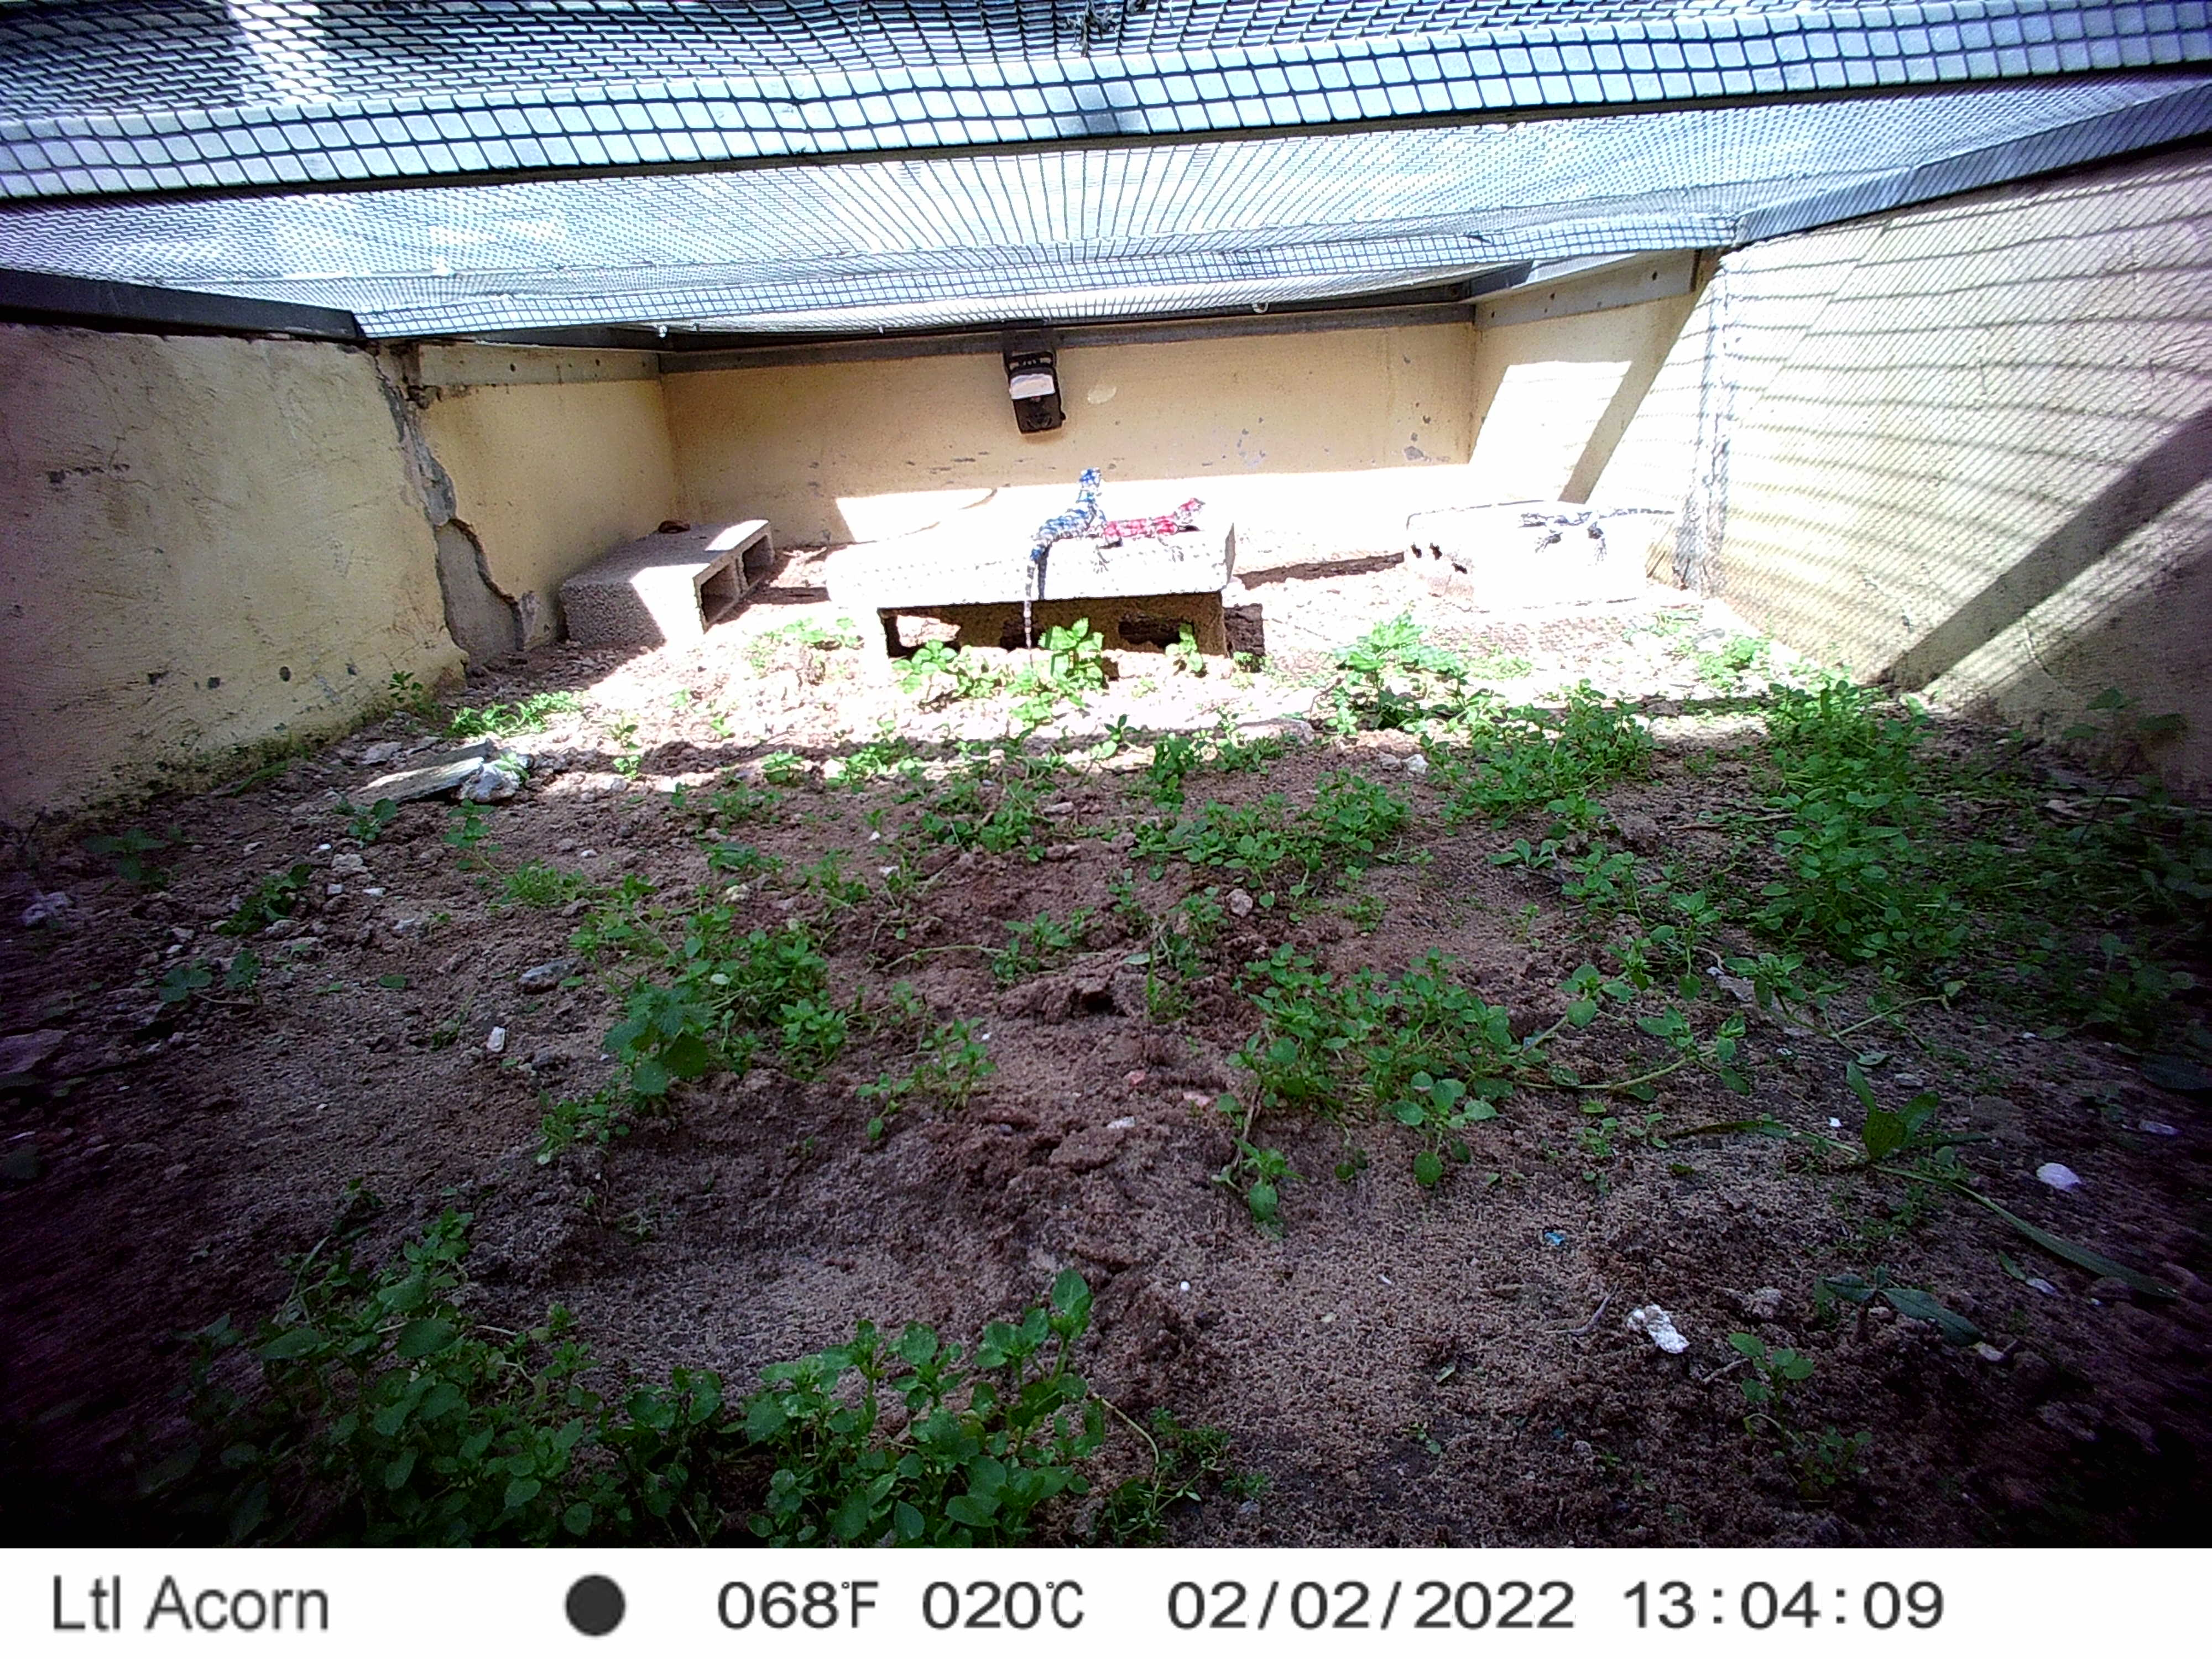lizard: (1010, 465, 1101, 650), (1517, 500, 1683, 552), (1103, 495, 1209, 552)
